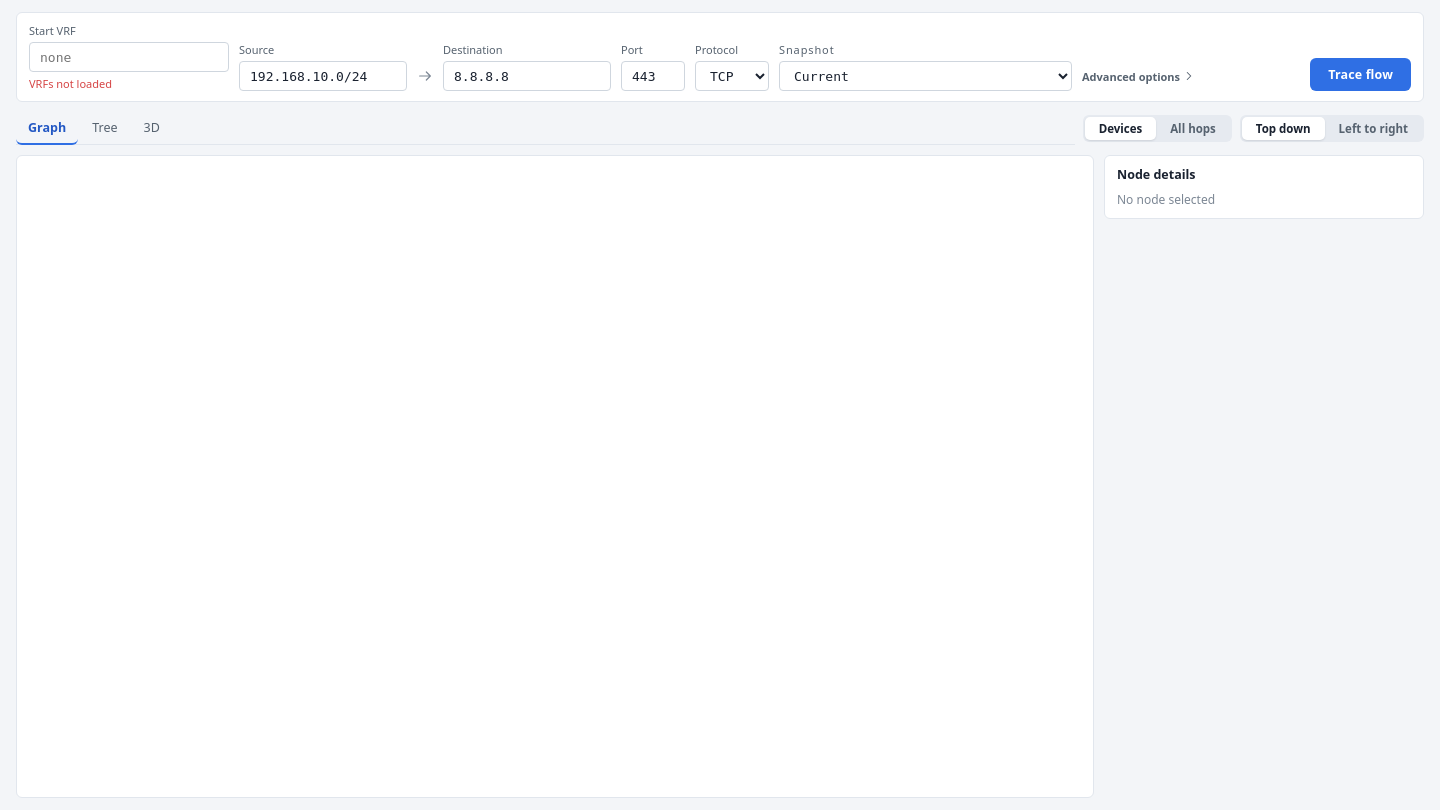
TracePage: trace mode wiring › draws no verdict banner for a successful trace
This screenshot has width=1440, height=810.
Step 1. Click the button "Trace flow" → click(1361, 74), box [1310,58,1411,91]
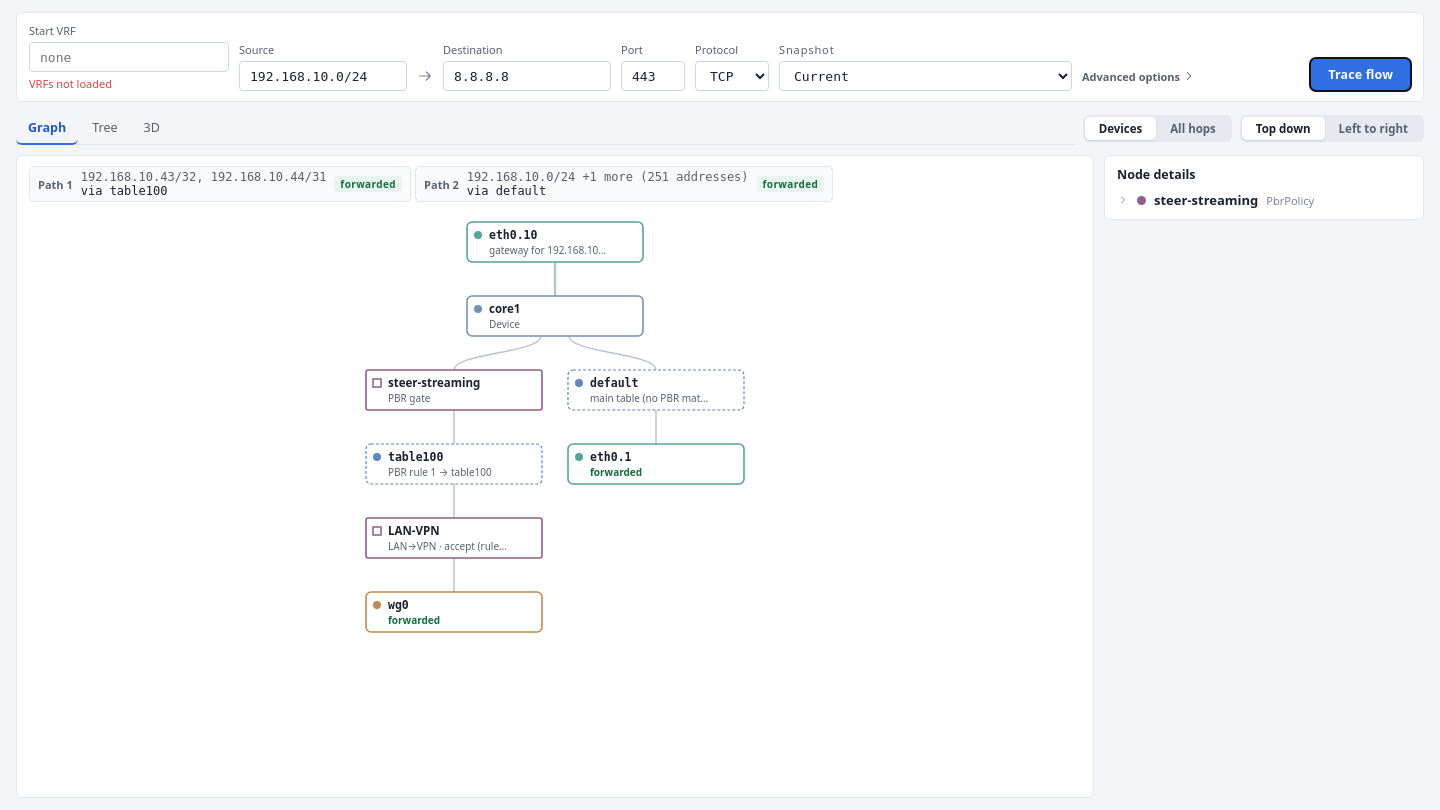
Now the icon named "Path graph" is shown, box [354,210,756,644]
